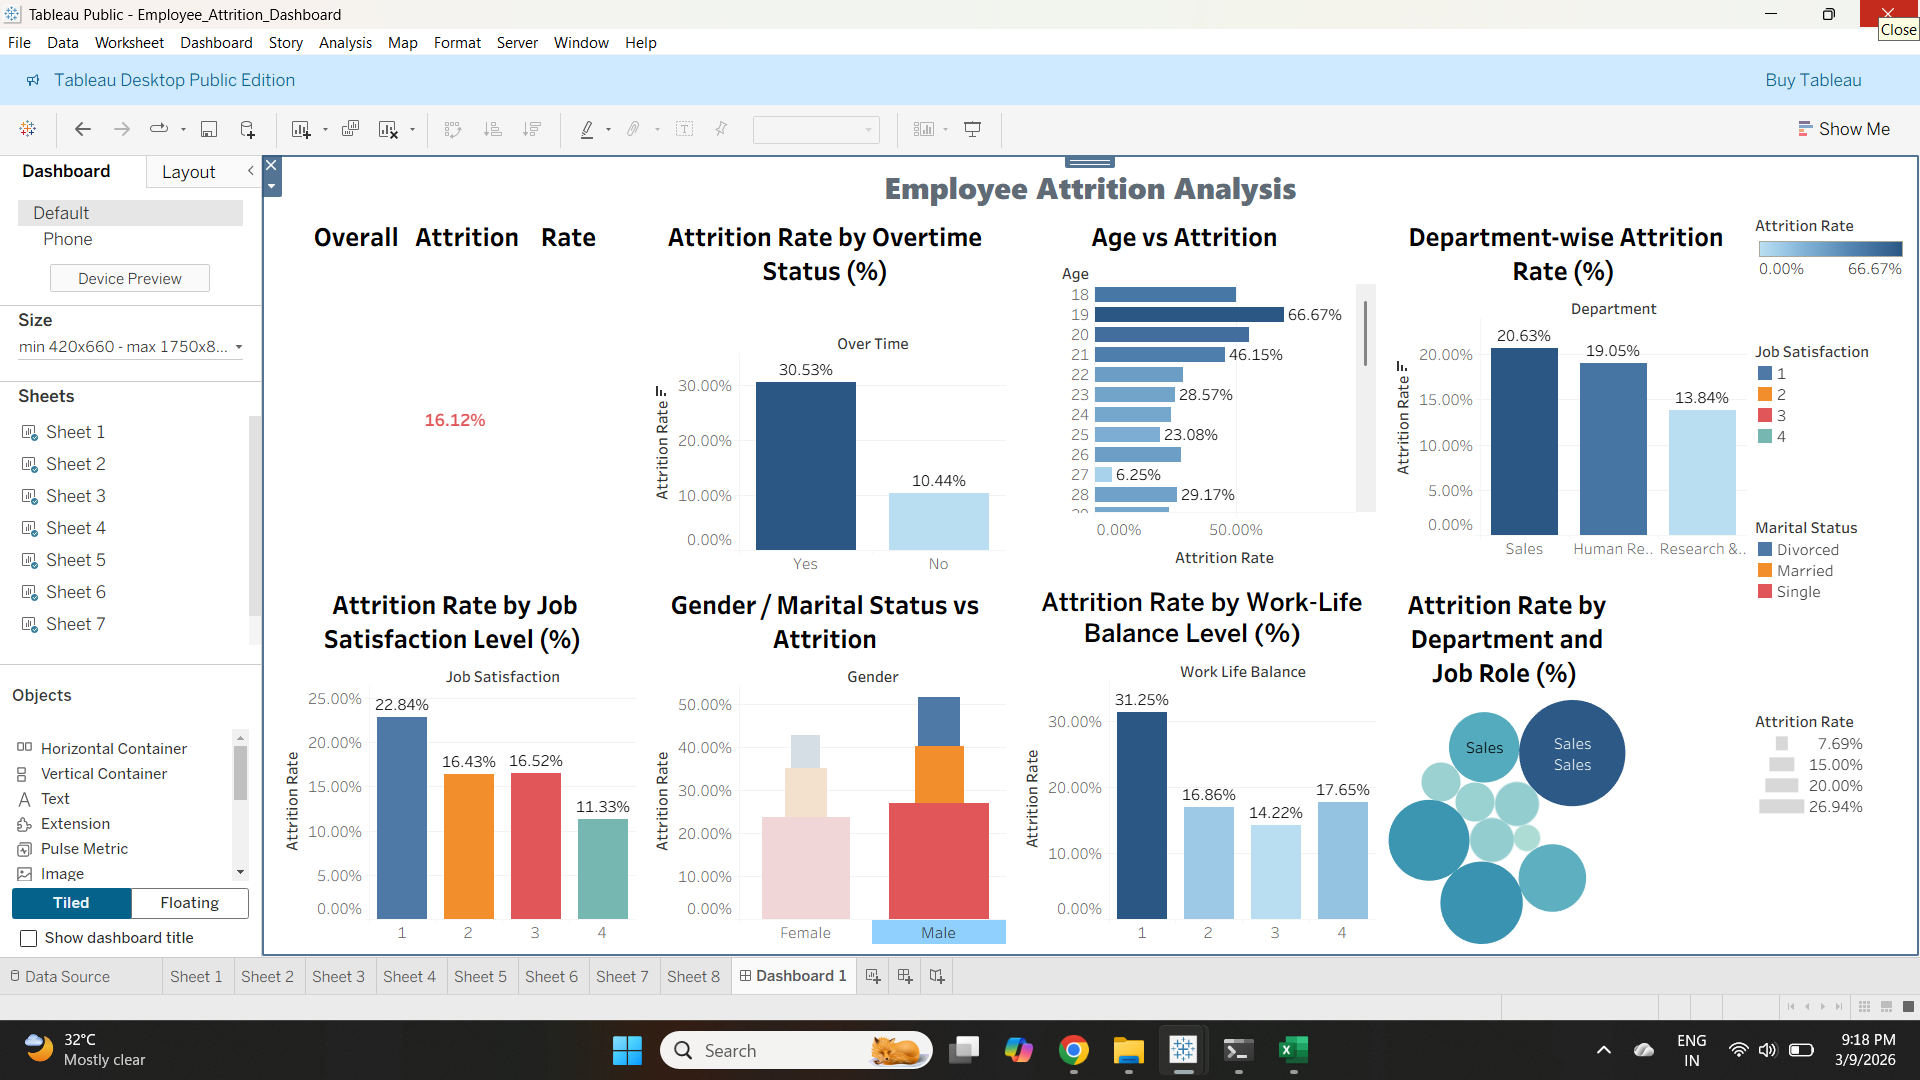

What the dashboard file says about the page in this screenshot:
{"tool":"tableau","page":{"name":"Dashboard 1","canvas":[1000,1000],"units":"permille","ordinal":0},"visuals":[{"type":"title","box":[6.9,12.1,986.2,72.7]},{"type":"worksheet","title":"Sheet 1","mark":"Automatic","box":[6.9,84.9,212.1,451.5]},{"type":"worksheet","title":"Sheet 3","mark":"Automatic","rows":["Calculation_1718123286003990528"],"cols":["OverTime"],"box":[218.9,84.9,212.1,451.5]},{"type":"worksheet","title":"Sheet 7","mark":"Automatic","rows":["Age"],"cols":["Calculation_1718123286003990528"],"box":[431.1,84.9,212.1,451.5]},{"type":"worksheet","title":"Sheet 2","mark":"Bar","rows":["Calculation_1718123286003990528"],"cols":["Department"],"box":[643.1,84.9,212.2,451.5]},{"type":"legend","title":"Sheet 7","param":"[federated.022gxj21vz7i9z1h2npzq0lhb733].[usr:Calculation_1718123286003990528:qk","box":[855.3,84.9,137.8,190.9]},{"type":"legend","title":"Sheet 4","param":"[federated.022gxj21vz7i9z1h2npzq0lhb733].[none:JobSatisfaction:ok]","box":[855.3,275.8,137.8,266.7]},{"type":"worksheet","title":"Sheet 4","mark":"Automatic","rows":["Calculation_1718123286003990528"],"cols":["JobSatisfaction"],"box":[6.9,536.4,212.1,451.5]},{"type":"worksheet","title":"Sheet 8","mark":"Automatic","rows":["Calculation_1718123286003990528"],"cols":["Gender"],"box":[218.9,536.4,212.1,451.5]},{"type":"worksheet","title":"Sheet 5","mark":"Bar","rows":["Calculation_1718123286003990528"],"cols":["WorkLifeBalance"],"box":[431.1,536.4,212.1,451.5]},{"type":"worksheet","title":"Sheet 6","mark":"Circle","box":[643.1,536.4,212.2,451.5]},{"type":"legend","title":"Sheet 8","param":"[federated.022gxj21vz7i9z1h2npzq0lhb733].[none:MaritalStatus:nk]","box":[855.3,542.4,137.8,293.9]},{"type":"legend","title":"Sheet 8","param":"[federated.022gxj21vz7i9z1h2npzq0lhb733].[usr:Calculation_1718123286003990528:qk","box":[855.3,836.4,137.8,151.5]}]}

Visuals, with their boxes on the dashboard's canvas, which has no fixed pixel size, in thousandths of its width and height (x1, y1, x2, y2). These are canvas units, not pixel positions in the 1920x1080 screenshot, which may show the page scaled, cropped or inside an application window:
title: crop(7, 12, 993, 85)
"Sheet 1" worksheet: crop(7, 85, 219, 536)
"Sheet 3" worksheet: crop(219, 85, 431, 536)
"Sheet 7" worksheet: crop(431, 85, 643, 536)
"Sheet 2" worksheet (Bar marks): crop(643, 85, 855, 536)
"Sheet 7" legend: crop(855, 85, 993, 276)
"Sheet 4" legend: crop(855, 276, 993, 542)
"Sheet 4" worksheet: crop(7, 536, 219, 988)
"Sheet 8" worksheet: crop(219, 536, 431, 988)
"Sheet 5" worksheet (Bar marks): crop(431, 536, 643, 988)
"Sheet 6" worksheet (Circle marks): crop(643, 536, 855, 988)
"Sheet 8" legend: crop(855, 542, 993, 836)
"Sheet 8" legend: crop(855, 836, 993, 988)
